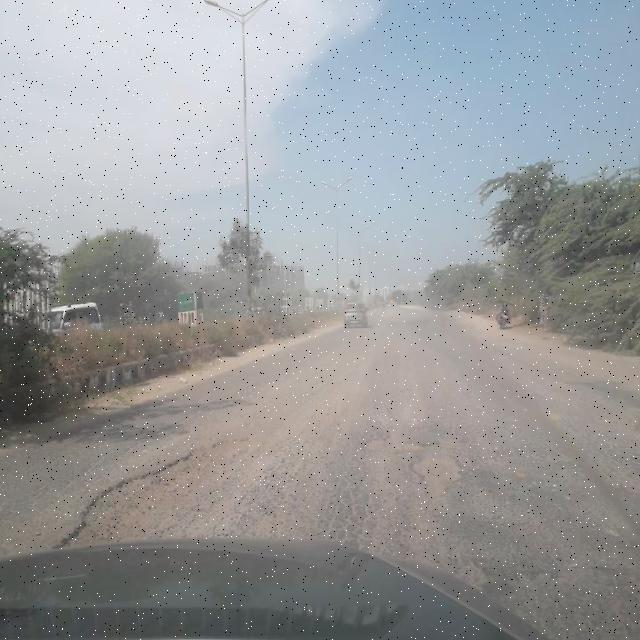D20: (1, 394, 637, 583)
D40: (54, 427, 252, 536), (404, 454, 478, 494), (556, 562, 630, 602), (358, 418, 430, 458)
